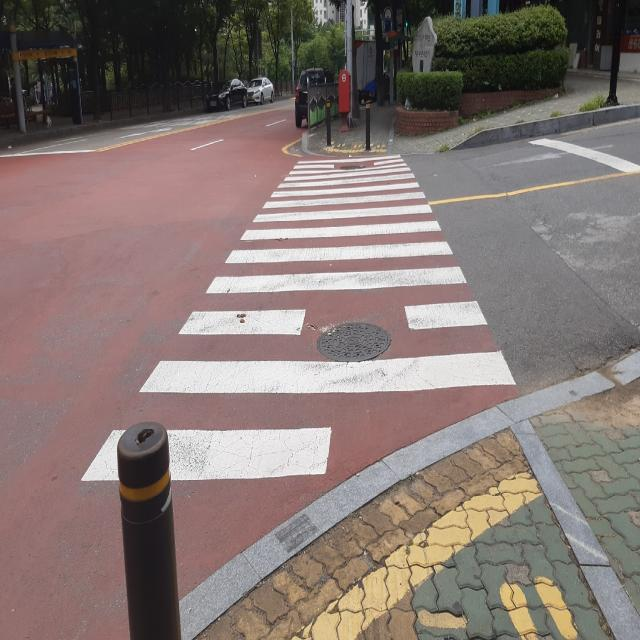횡단보도: (80, 153, 517, 481)
